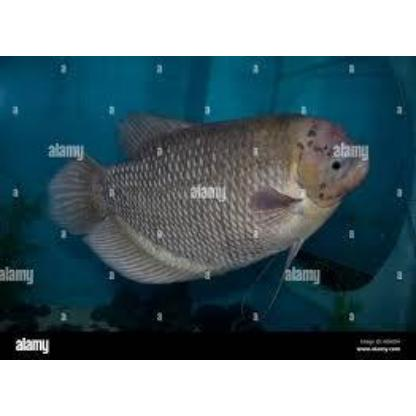gurame: (60, 114, 368, 280)
